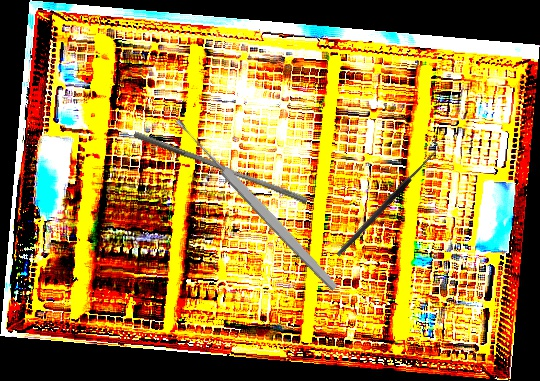Hook Surgical: (330, 139, 443, 258)
Pusher: (130, 131, 311, 205)
Surgical Spoon: (172, 114, 341, 294)
